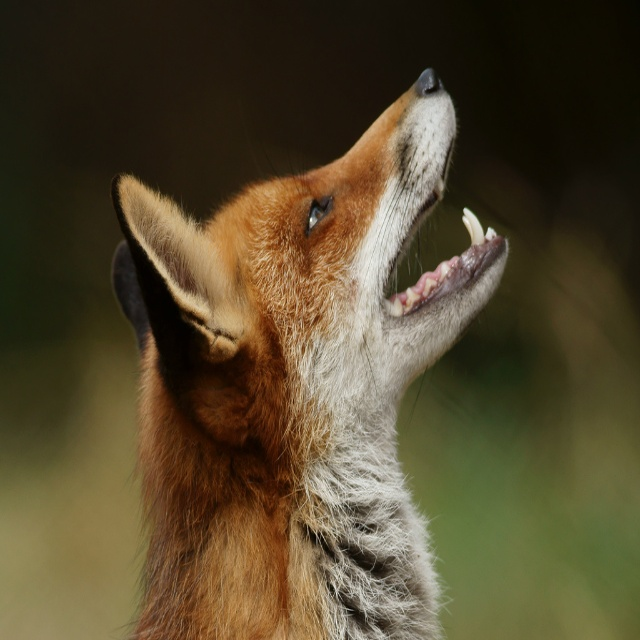Fox: (110, 64, 511, 639)
